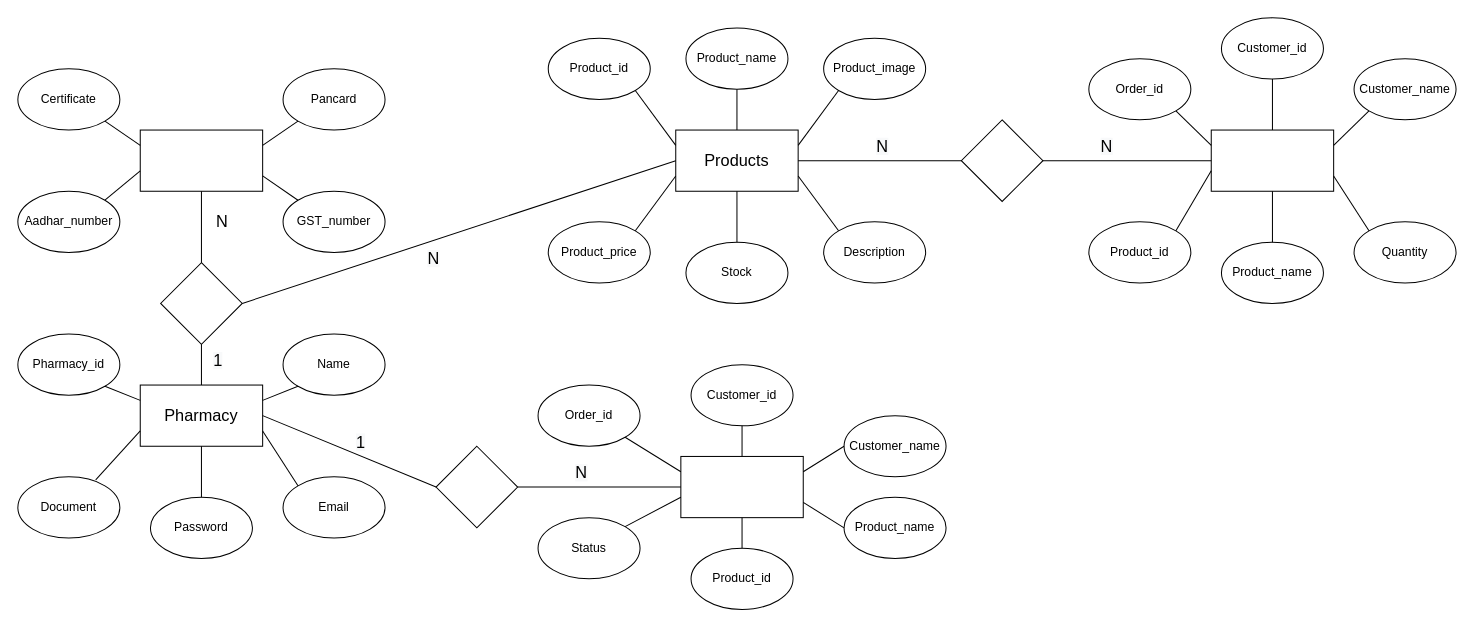
This 1474x627 diagram has some shape labels left out. The shapes that lost their labels are listed below. From the top down, each one's box as (x1, y1, x2, y2) in pixels, then its label:
(139, 129, 263, 191): Documents
(960, 119, 1043, 201): View
(1210, 129, 1334, 191): Order
(160, 262, 242, 344): Adds
(435, 445, 518, 528): Track
(680, 455, 803, 518): Track_Orders
